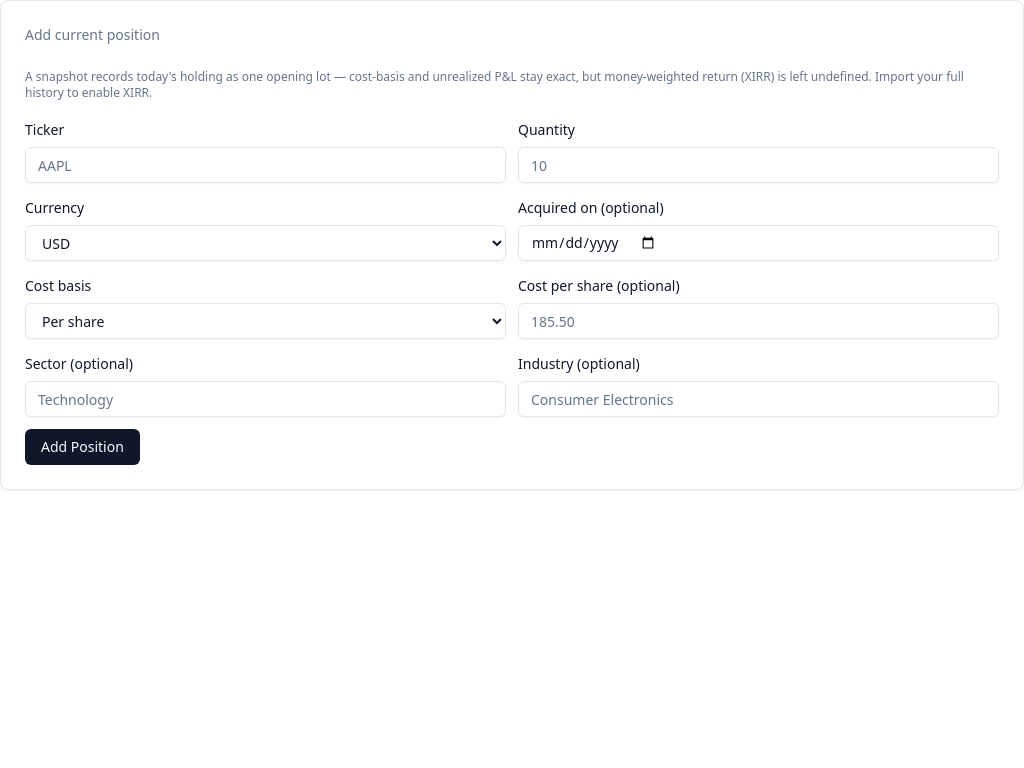
AddPositionForm › requires a ticker
The width and height of the screenshot is (1024, 768).
Click the button "Add Position" at (82, 447), box x1=25 y1=429 x2=140 y2=465
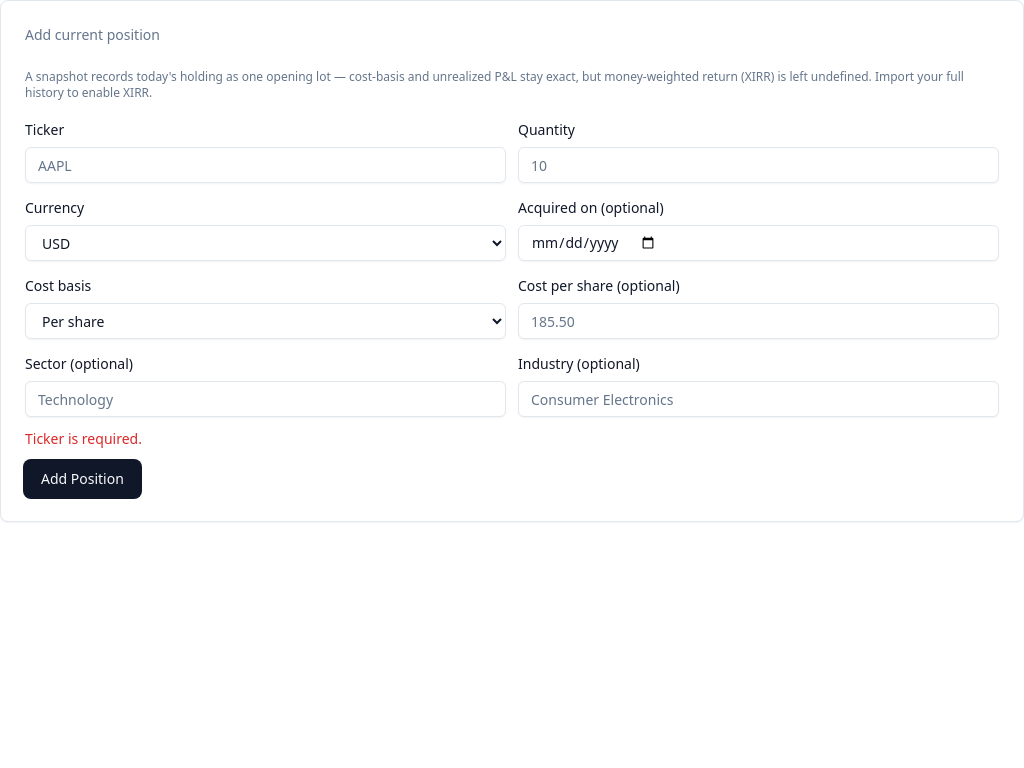
Expected: the message reads "Ticker is required.", x1=25 y1=429 x2=142 y2=448
